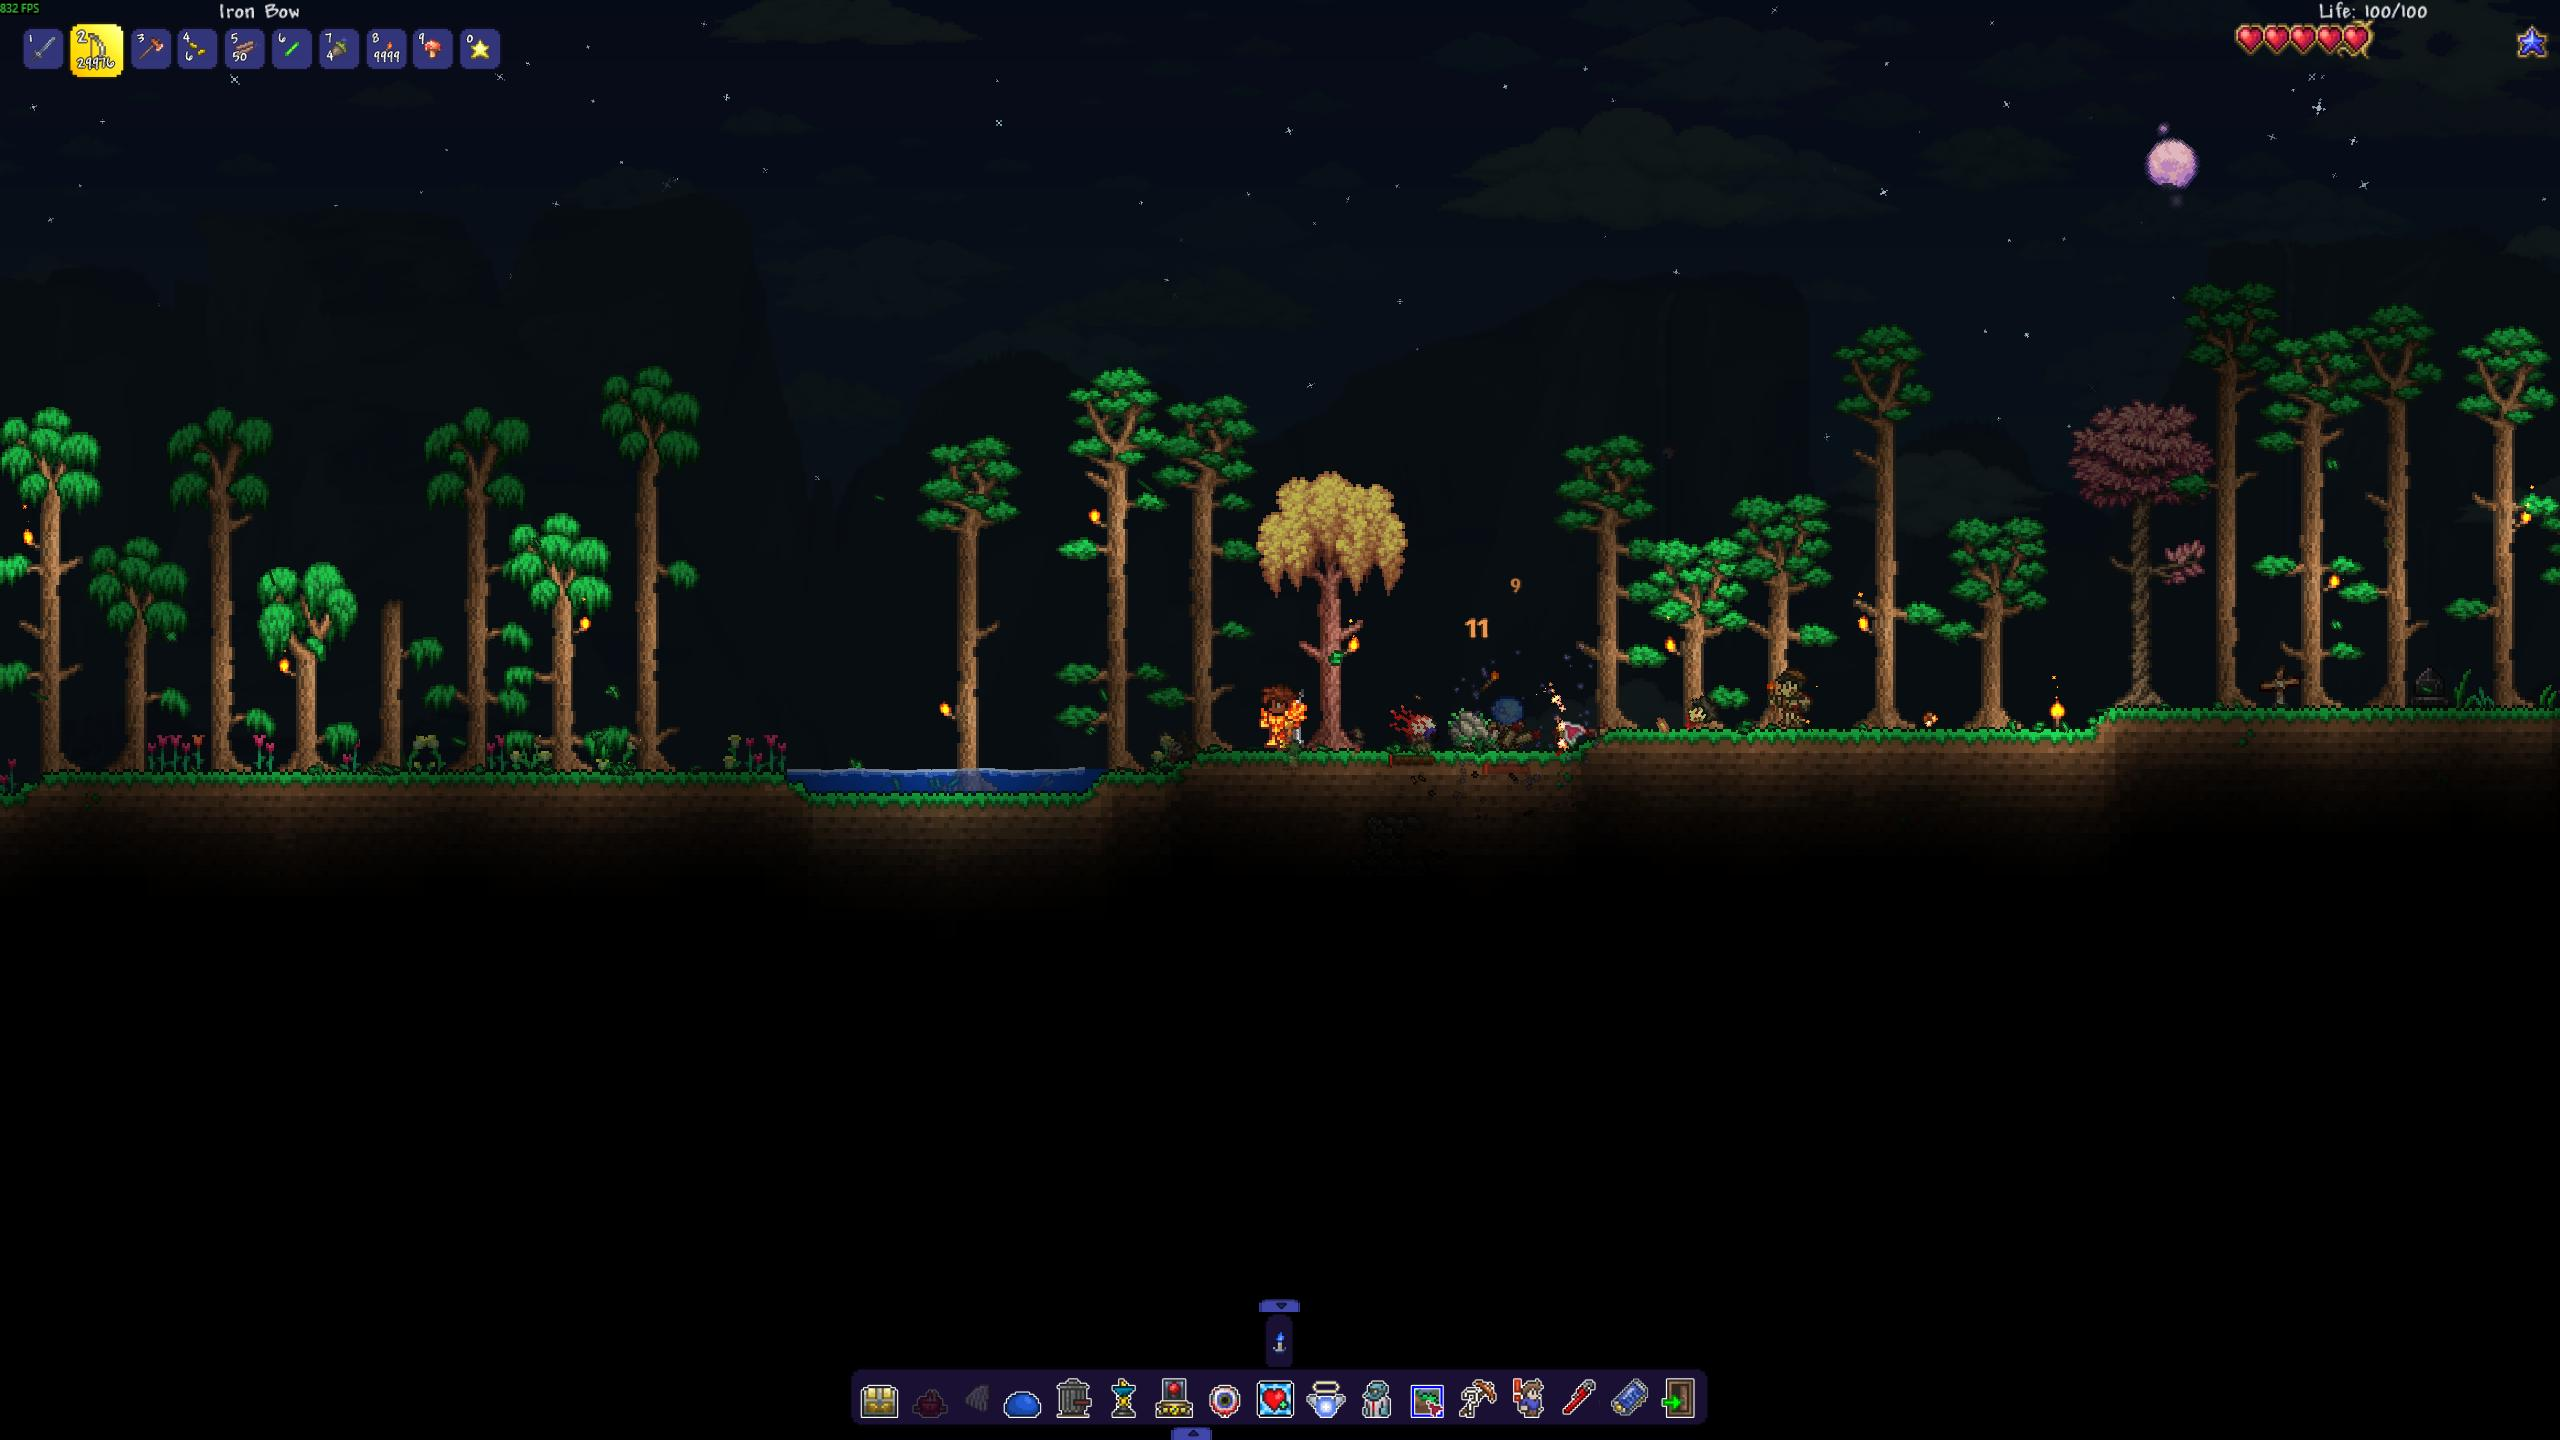Demon Eye: (1382, 695, 1444, 749)
Zombie: (1769, 663, 1815, 728), (1482, 693, 1531, 753)
